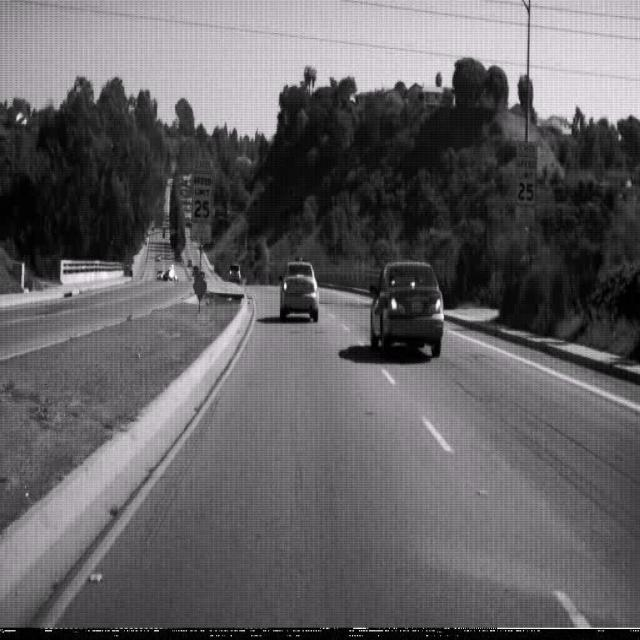speedLimit25: (191, 169, 213, 227), (514, 155, 536, 207)
